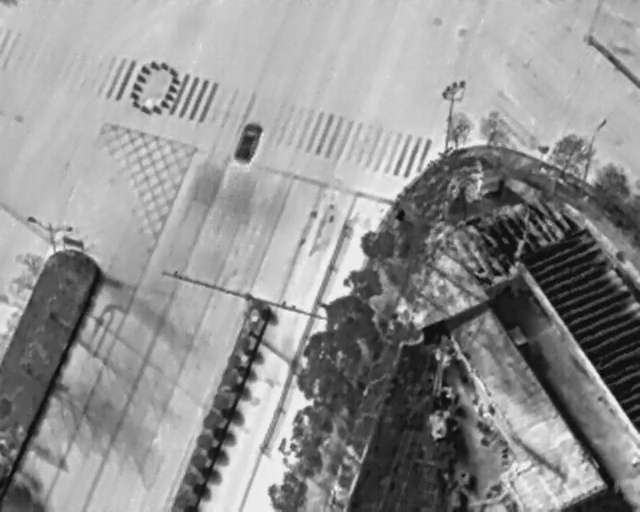Car: (230, 118, 265, 166)
